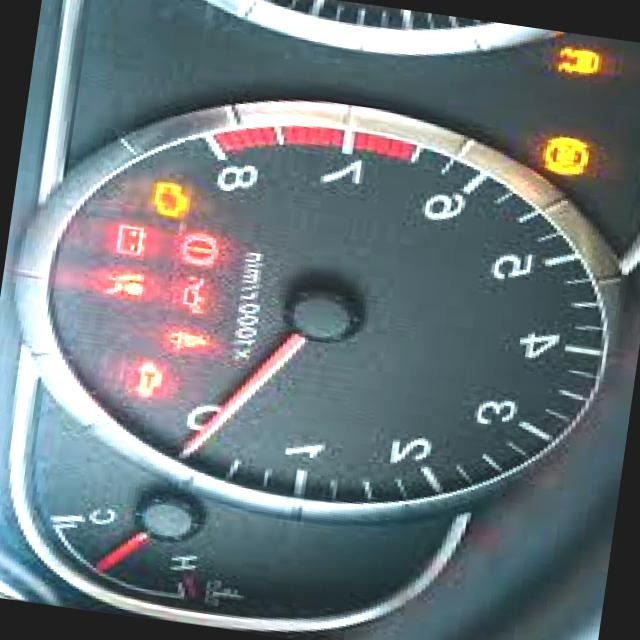kontrolka: (117, 354, 185, 408), (539, 126, 600, 184), (94, 260, 158, 308), (547, 39, 612, 84), (170, 270, 224, 320), (150, 320, 220, 358), (172, 228, 226, 271), (108, 216, 154, 260), (146, 177, 192, 220)
